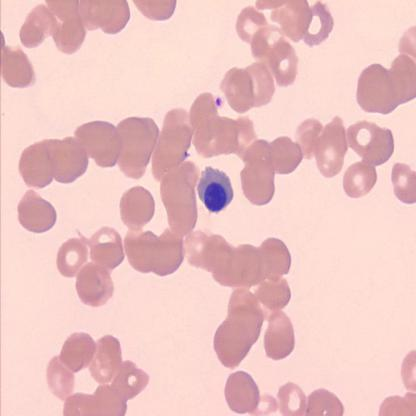NRC: (195, 162, 236, 216)
